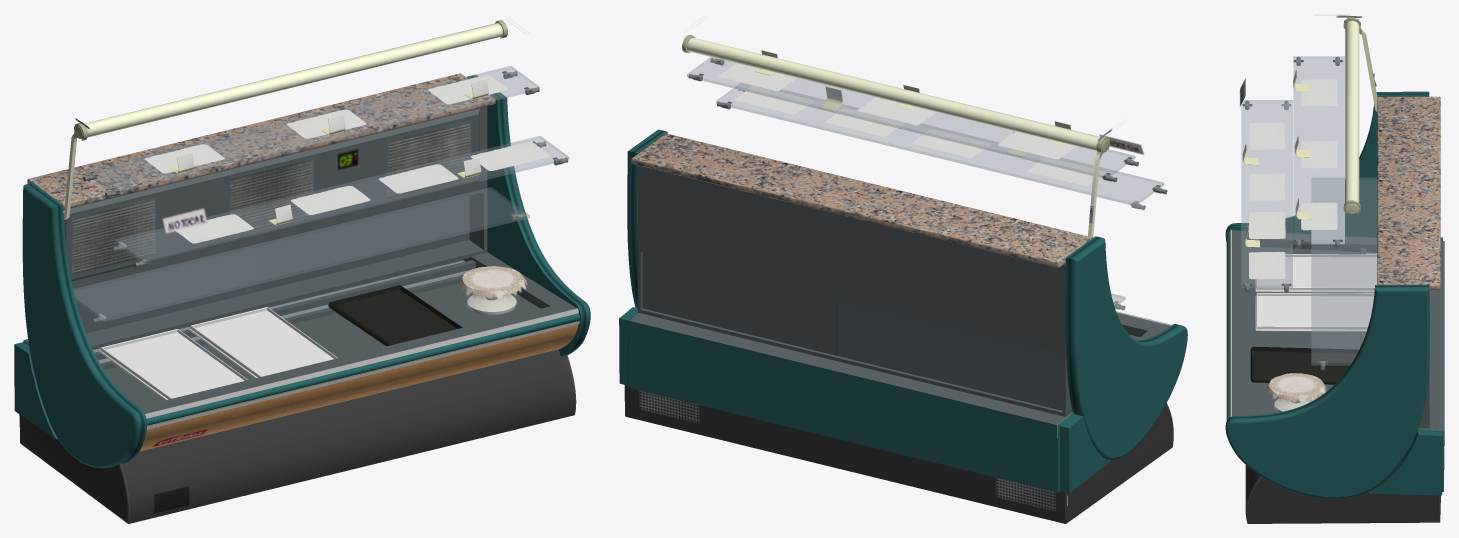
The model's file is canarian_cafe_-_cake_display.glb.
3 views of the same model, side by side, from view 1: azimuth 30°, elevation 25°; view 2: azimuth 150°, elevation 25°; view 3: azimuth 270°, elevation 25° (orthographic). The views are drawn at different scales.
Parts seen in each view (by area): view 1: fridge_back, base, base_1, biottom_shelf, lh_end, counter, top_shelf, mid_shelf, light, rh_end, tray_1, tray (+12 smaller); view 2: fridge_back, base_1, counter, base, lh_end, top_shelf, mid_shelf, light, rh_end, doily_1, doily_1_3, doily_1_1 (+4 smaller); view 3: rh_end, base_1, counter, biottom_shelf, top_shelf, base, mid_shelf, tray_1, tray, light, lh_end, tray_2 (+11 smaller).
Part boxes in pixels (x1=…): fridge_back: x1=63, y1=106, x2=487, y2=349; base: x1=19, y1=349, x2=576, y2=523; base_1: x1=14, y1=252, x2=579, y2=451; biottom_shelf: x1=73, y1=187, x2=529, y2=321; lh_end: x1=22, y1=183, x2=146, y2=468; counter: x1=27, y1=73, x2=495, y2=209; top_shelf: x1=86, y1=66, x2=539, y2=193; mid_shelf: x1=115, y1=136, x2=568, y2=263; light: x1=63, y1=20, x2=507, y2=219; rh_end: x1=467, y1=75, x2=590, y2=356; tray_1: x1=189, y1=307, x2=337, y2=378; tray: x1=99, y1=329, x2=247, y2=400; fridge_back: x1=637, y1=165, x2=1072, y2=416; base_1: x1=619, y1=307, x2=1171, y2=493; counter: x1=631, y1=133, x2=1092, y2=267; base: x1=624, y1=385, x2=1173, y2=523; lh_end: x1=1065, y1=236, x2=1187, y2=460; top_shelf: x1=687, y1=57, x2=1135, y2=178; mid_shelf: x1=716, y1=83, x2=1163, y2=205; light: x1=682, y1=35, x2=1110, y2=237; rh_end: x1=627, y1=129, x2=667, y2=307; doily_1: x1=825, y1=109, x2=902, y2=136; doily_1_3: x1=734, y1=87, x2=812, y2=114; doily_1_1: x1=912, y1=130, x2=989, y2=157; rh_end: x1=1225, y1=284, x2=1429, y2=498; base_1: x1=1229, y1=230, x2=1444, y2=495; counter: x1=1377, y1=96, x2=1440, y2=289; biottom_shelf: x1=1311, y1=178, x2=1376, y2=365; top_shelf: x1=1293, y1=56, x2=1344, y2=243; base: x1=1245, y1=465, x2=1440, y2=523; mid_shelf: x1=1241, y1=100, x2=1292, y2=287; tray_1: x1=1255, y1=293, x2=1374, y2=331; tray: x1=1255, y1=254, x2=1377, y2=292; light: x1=1343, y1=17, x2=1377, y2=215; lh_end: x1=1225, y1=91, x2=1429, y2=241; tray_2: x1=1250, y1=346, x2=1358, y2=384.
Size of the model in its own units: 8.2 by 6.14 by 3.98.
1 material, 1 textured.
